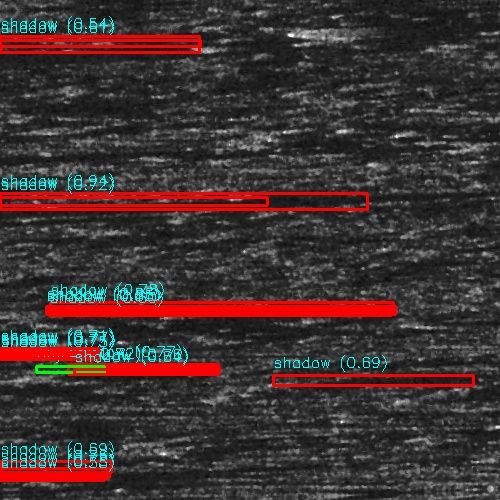rock: (29, 362, 102, 371), (23, 308, 86, 315)
shadow: (0, 190, 388, 209), (0, 200, 251, 219), (0, 34, 189, 53), (55, 308, 386, 315), (66, 362, 227, 371), (0, 369, 98, 380), (0, 473, 108, 478), (0, 350, 100, 355)
